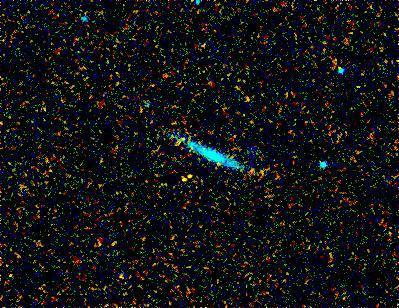star: (167, 162, 197, 192)
